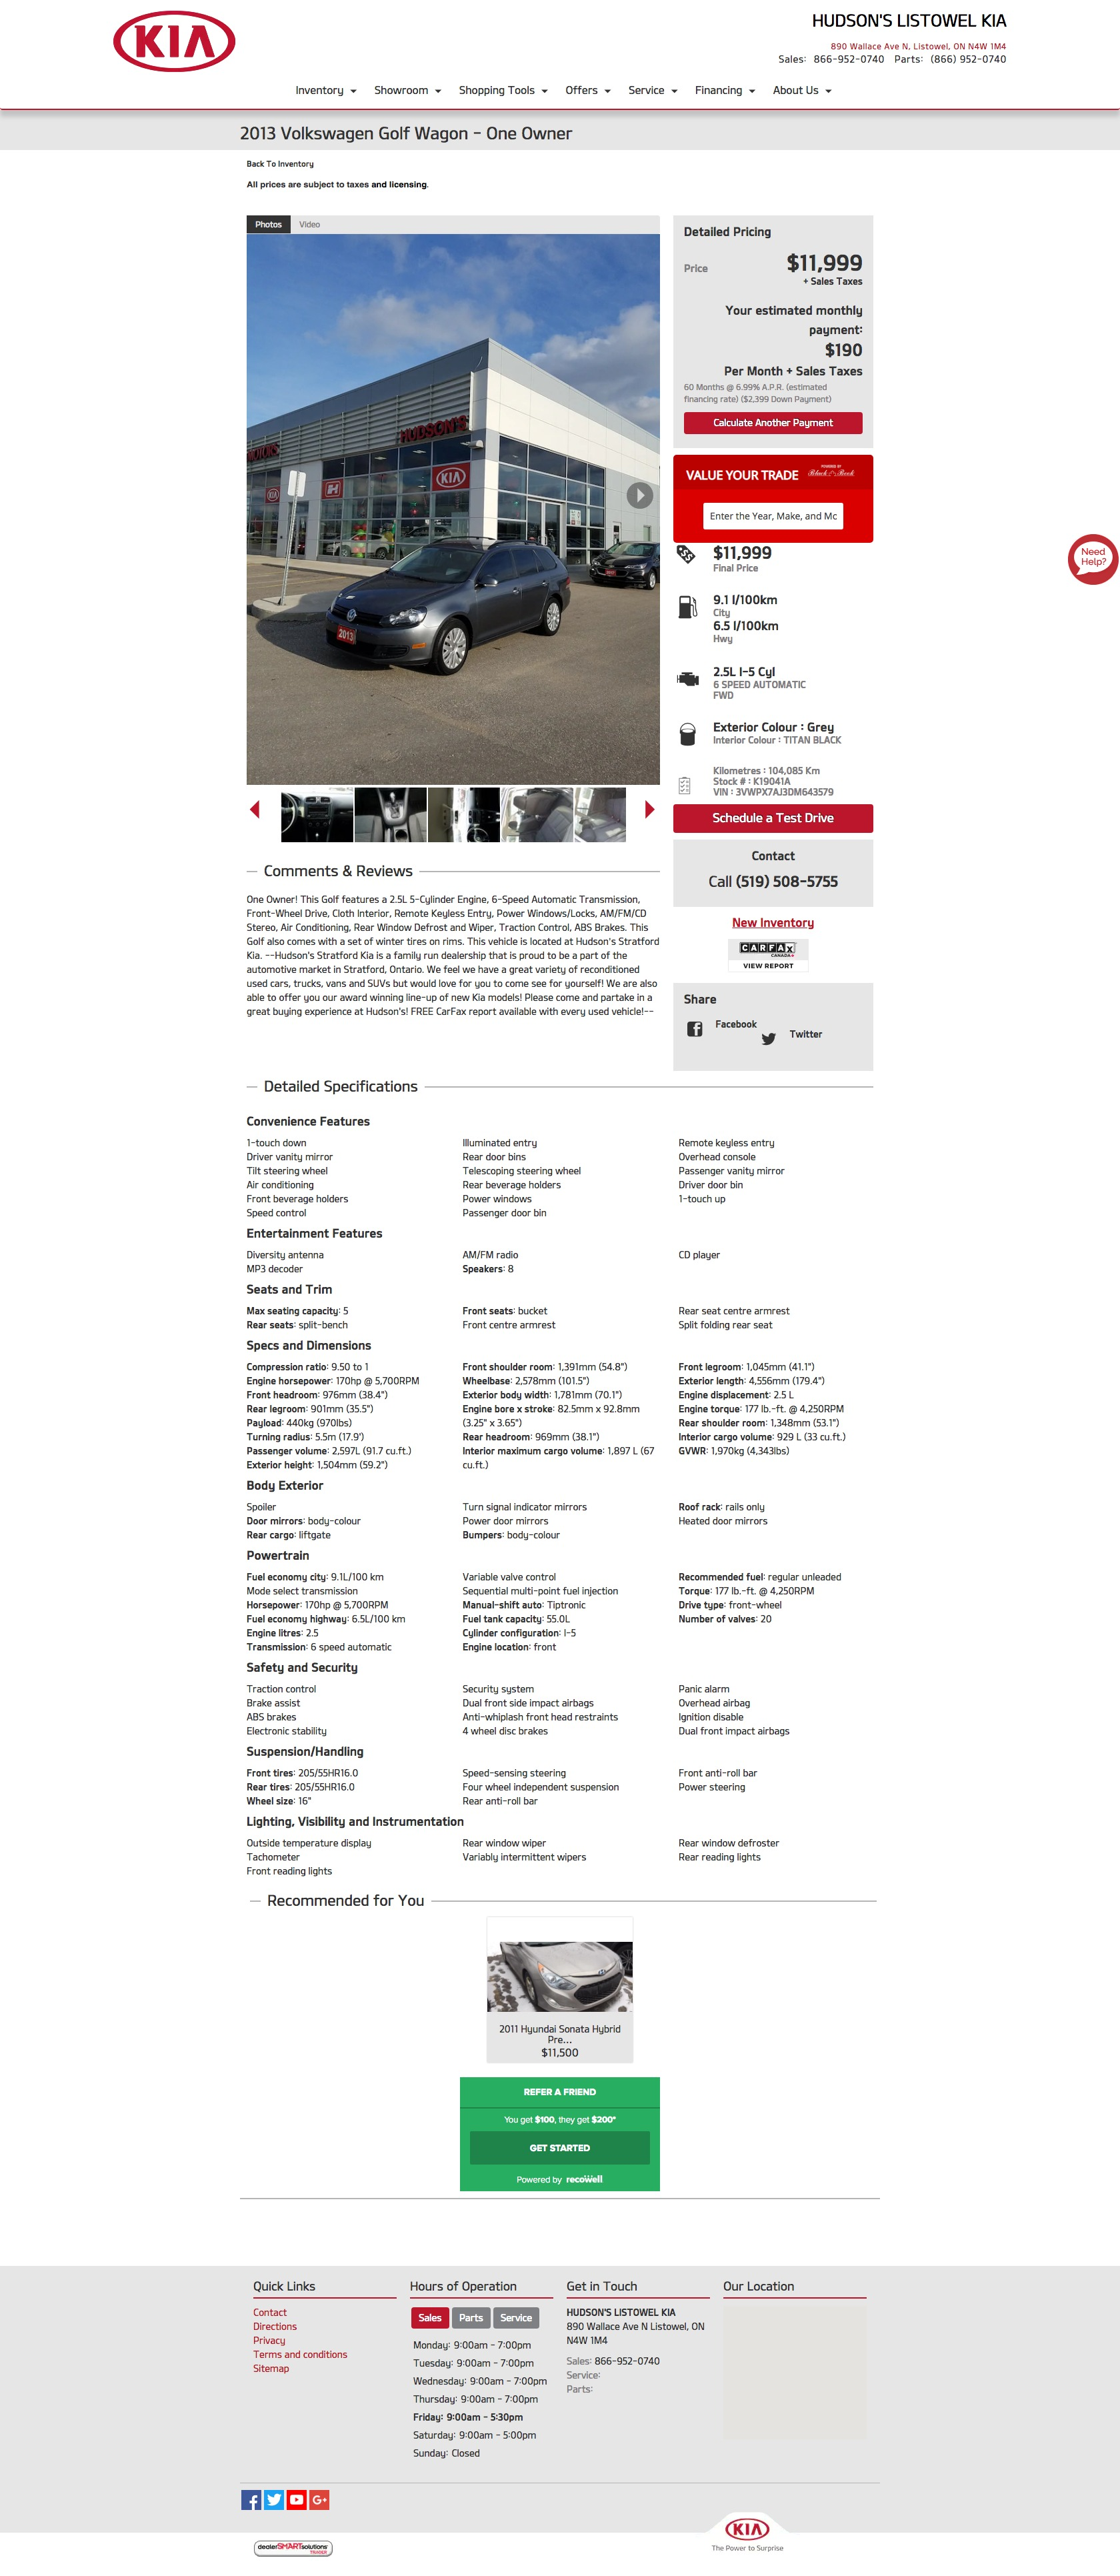car: (645, 800, 655, 820)
